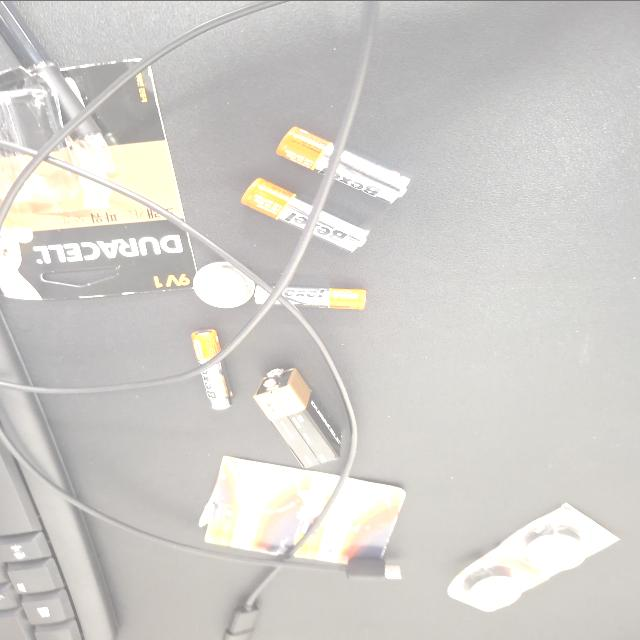9V: (234, 349, 366, 417)
AA: (520, 340, 616, 437), (584, 367, 640, 469)
AAA: (311, 304, 411, 336), (442, 350, 473, 436)
COIN: (445, 304, 502, 352)
